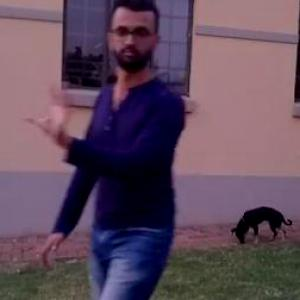follow_hand: (20, 76, 79, 143)
